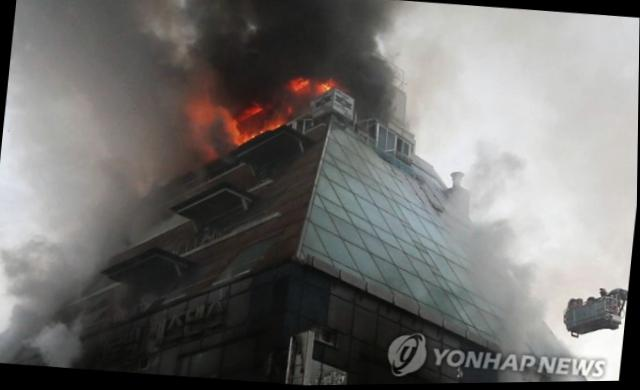fire: (178, 65, 337, 151)
